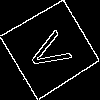V: (25, 24, 81, 77)
